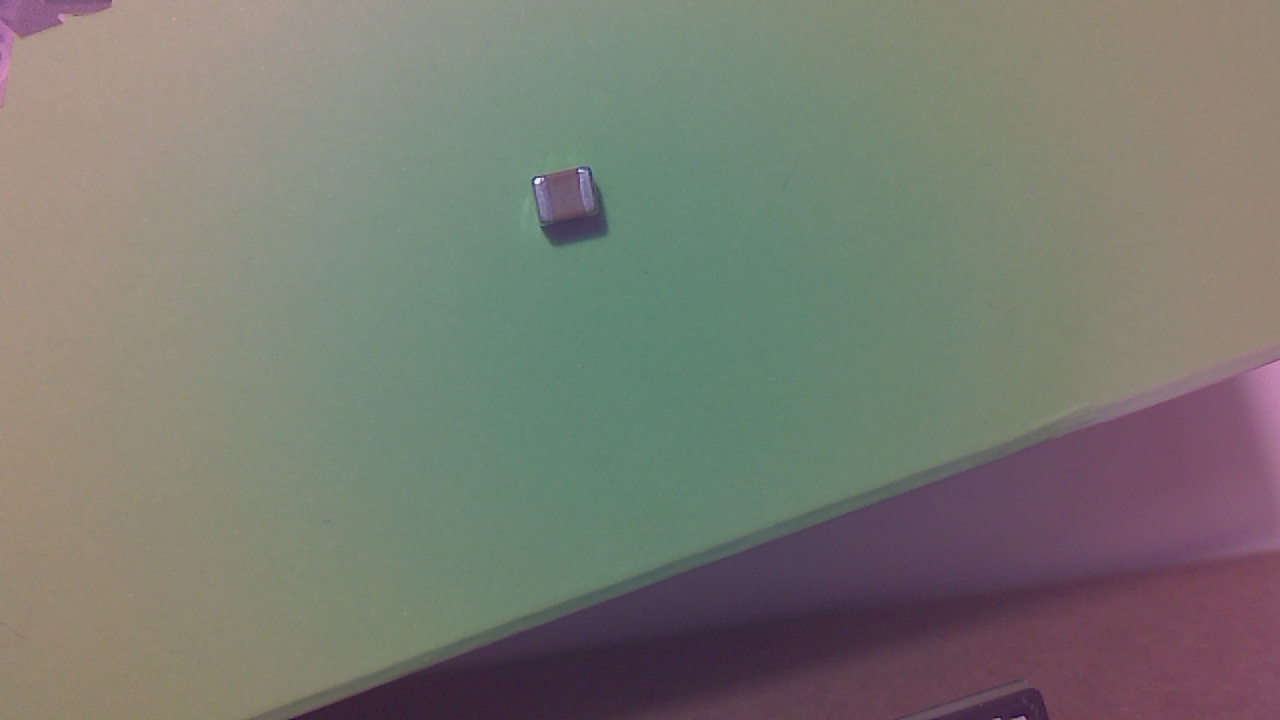Condensator: (536, 169, 613, 237)
